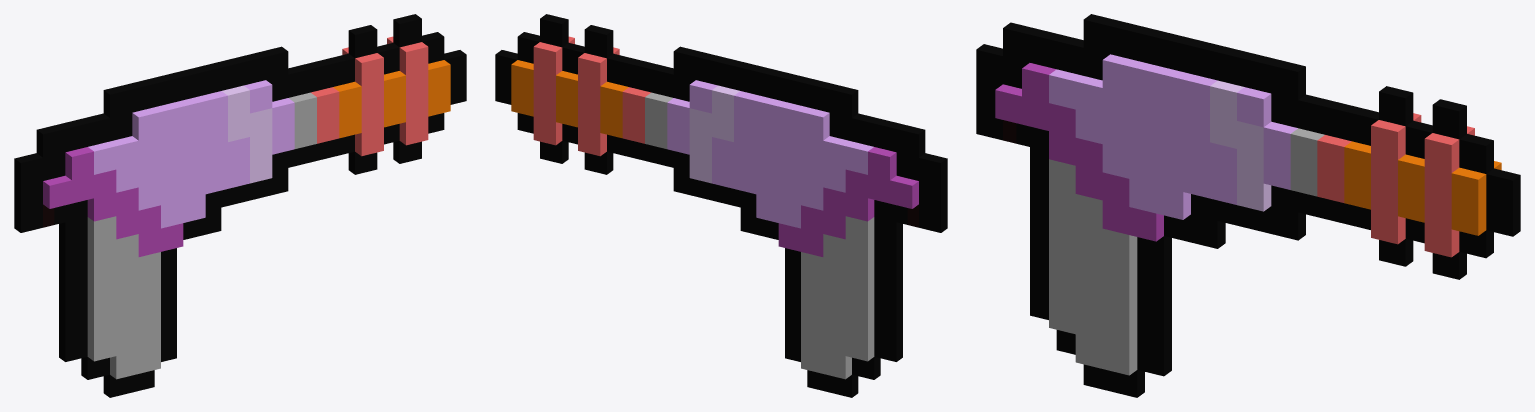
Rendered from SpaceGun.obj.
The picture shows the model from 3 angles, left to right: view 1: azimuth 30°, elevation 25°; view 2: azimuth 150°, elevation 25°; view 3: azimuth 330°, elevation 25°; orthographic projection. The views are drawn at different scales.
Size of the model in its own units: 4 by 2.6 by 0.3.
1 material, 1 textured.
